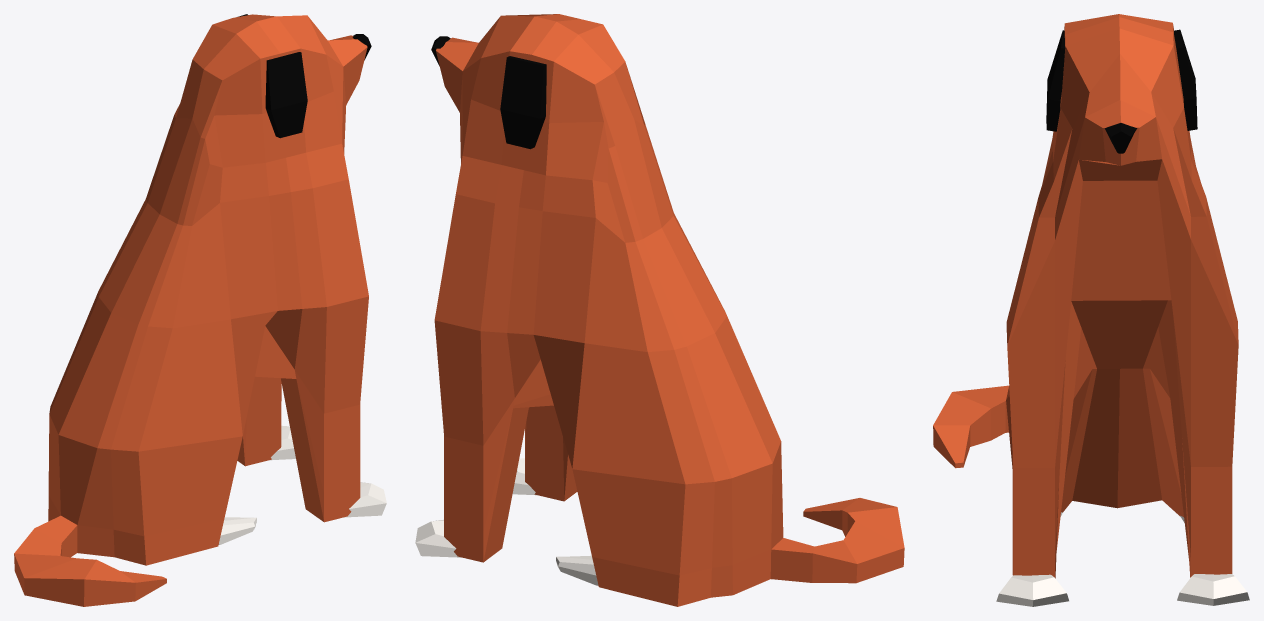
Rendered from dog_lowpole.glb.
3 renders of one model, left to right at view 1: azimuth 30°, elevation 25°; view 2: azimuth 150°, elevation 25°; view 3: azimuth 270°, elevation 25°, orthographic. The views are drawn at different scales.
Parts seen in each view (by area): view 1: Cube.001, Cube.002, Cube.004, Cube.003; view 2: Cube.001, Cube.002, Cube.004, Cube.003; view 3: Cube.001, Cube.004, Cube.002, Cube.135.
Boxes of the visible parts, x1=… form: Cube.001: x1=14, y1=14, x2=368, y2=606; Cube.002: x1=238, y1=14, x2=307, y2=138; Cube.004: x1=270, y1=425, x2=386, y2=517; Cube.003: x1=218, y1=517, x2=256, y2=544; Cube.001: x1=434, y1=14, x2=904, y2=606; Cube.002: x1=500, y1=56, x2=546, y2=149; Cube.004: x1=415, y1=458, x2=536, y2=557; Cube.003: x1=556, y1=555, x2=598, y2=585; Cube.001: x1=933, y1=14, x2=1238, y2=578; Cube.004: x1=996, y1=574, x2=1249, y2=606; Cube.002: x1=1046, y1=29, x2=1197, y2=131; Cube.135: x1=1105, y1=123, x2=1137, y2=153.
Size of the model in its own units: 0.8657 by 1 by 0.5282.
